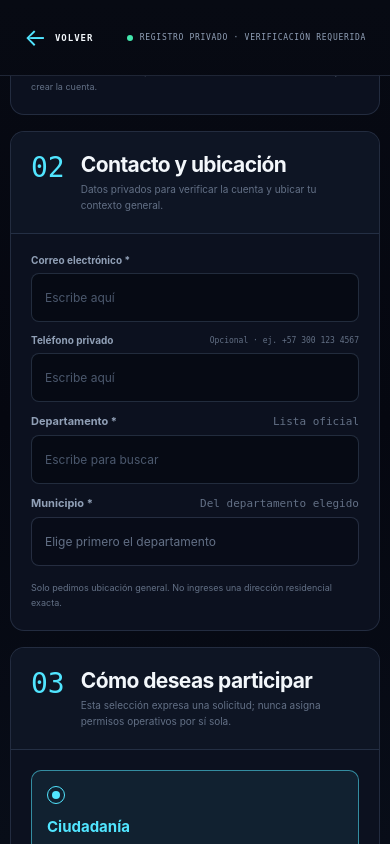
RegistrationForm › no deja elegir municipio antes que departamento
The image size is (390, 844).
(page scrolled)
Expected: the element named "Municipio * no disponible" is shown, x1=31 y1=517 x2=359 y2=566
Expected: the text "Elige primero el departamento" is shown, x1=45 y1=534 x2=216 y2=549
Type "quind" into the field named "Departamento *".
click(195, 460); type("quind")  # box x1=31 y1=435 x2=359 y2=484
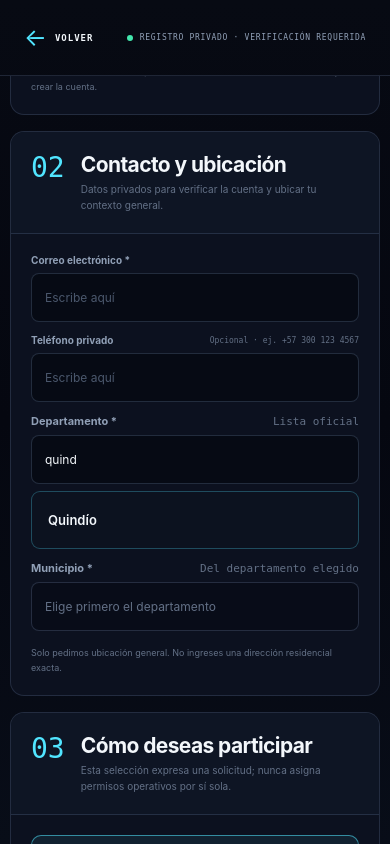
Click the button with aria-label "Elegir el departamento Quindío".
click(72, 520)  # box x1=38 y1=498 x2=352 y2=542
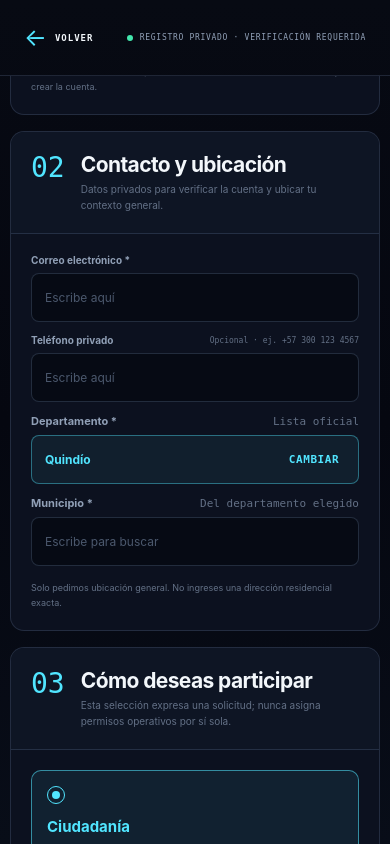
Result: the field named "Municipio *" is shown at x1=31 y1=517 x2=359 y2=566
